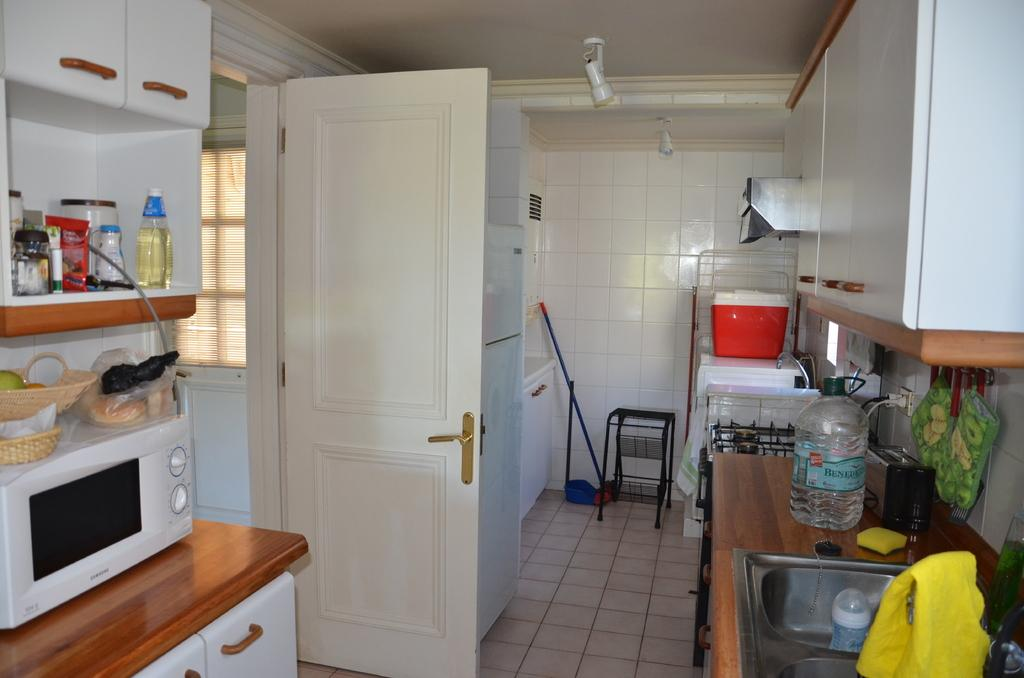cabinet_door: (862, 22, 916, 320), (818, 53, 856, 306), (127, 20, 212, 117), (16, 22, 122, 98), (796, 110, 823, 296), (224, 617, 294, 678), (524, 378, 551, 498)
handle: (60, 49, 115, 85), (142, 65, 188, 102), (222, 626, 268, 654), (428, 423, 472, 450), (828, 275, 865, 298), (791, 270, 823, 296), (524, 379, 553, 394)
